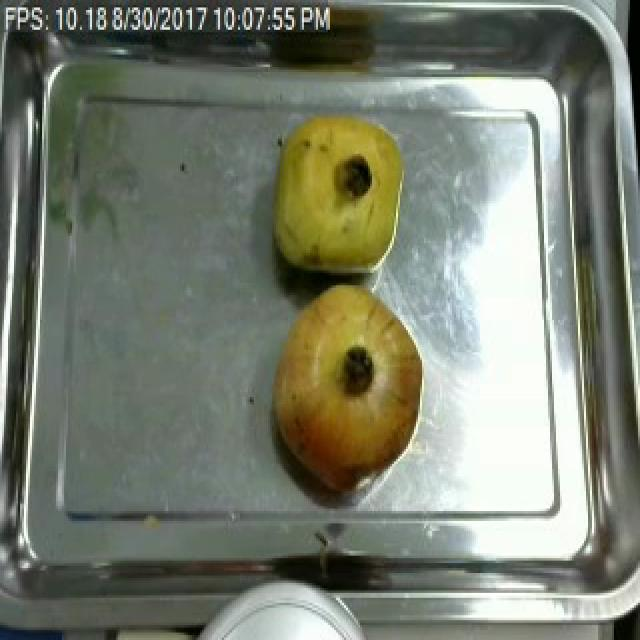fruit: (266, 268, 430, 503), (264, 104, 414, 283)
